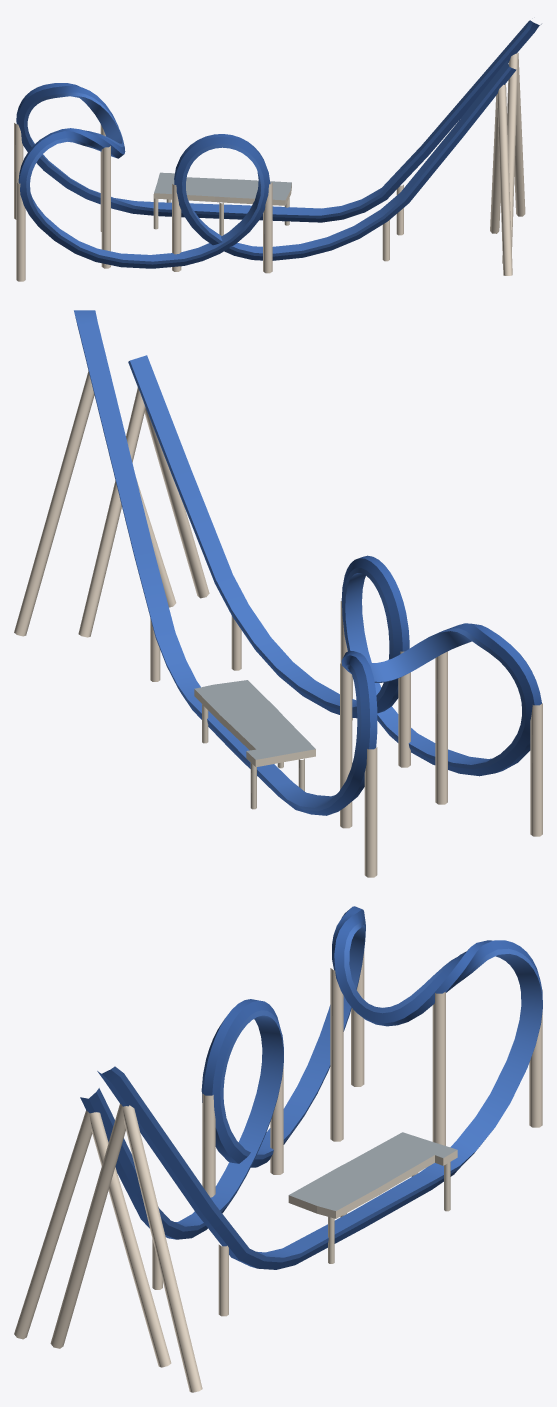
The model's file is carowinds-flying-cobras.glb.
3 views of the same model, one above another, from view 1: azimuth 30°, elevation 25°; view 2: azimuth 150°, elevation 25°; view 3: azimuth 270°, elevation 25° (orthographic). The views are drawn at different scales.
Visible parts, largest first — view 1: The Flying Cobras; view 2: The Flying Cobras; view 3: The Flying Cobras.
Part boxes in pixels (bbox=[...]): The Flying Cobras: bbox=[14, 20, 541, 281]; The Flying Cobras: bbox=[14, 310, 542, 877]; The Flying Cobras: bbox=[14, 906, 542, 1392].
Bounding box in the file's own units: 77.42 × 36.95 × 55.71.
